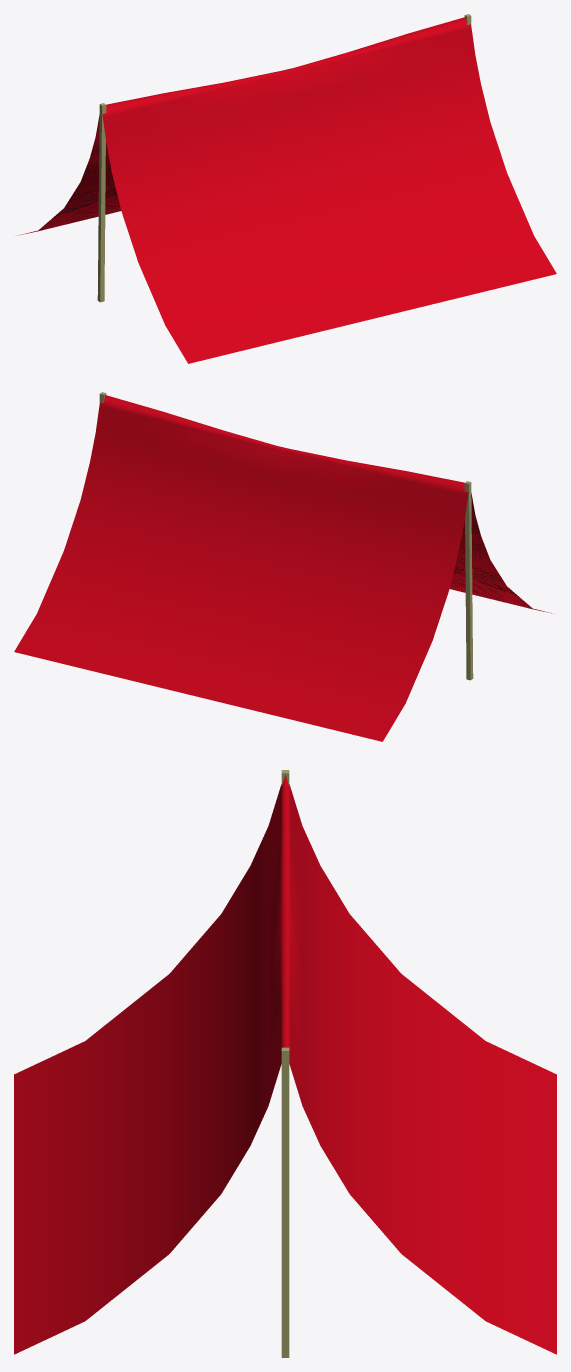
The model's file is Tent_0.fbx.
The picture shows the model from 3 angles, top to bottom: view 1: azimuth 30°, elevation 25°; view 2: azimuth 150°, elevation 25°; view 3: azimuth 270°, elevation 25°; orthographic projection. The views are drawn at different scales.
Parts seen in each view (by area): view 1: Tent_Top, Poles, Tent_Bottom; view 2: Tent_Top, Poles, Tent_Bottom; view 3: Tent_Top, Poles.
Part boxes in pixels (x1=…): Tent_Top: x1=19, y1=17, x2=556, y2=363; Poles: x1=97, y1=14, x2=471, y2=302; Tent_Bottom: x1=41, y1=123, x2=119, y2=229; Tent_Top: x1=14, y1=395, x2=551, y2=741; Poles: x1=99, y1=392, x2=473, y2=680; Tent_Bottom: x1=452, y1=495, x2=531, y2=608; Tent_Top: x1=14, y1=775, x2=556, y2=1354; Poles: x1=281, y1=770, x2=289, y2=1357.
Bounding box in the file's own units: 295 × 148 × 238.
